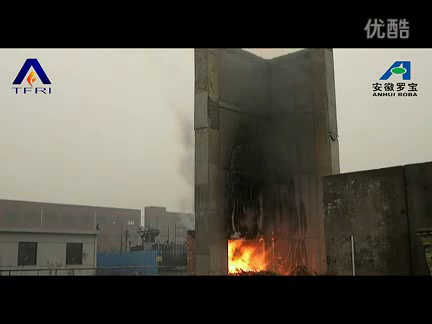fire: (225, 240, 271, 275)
